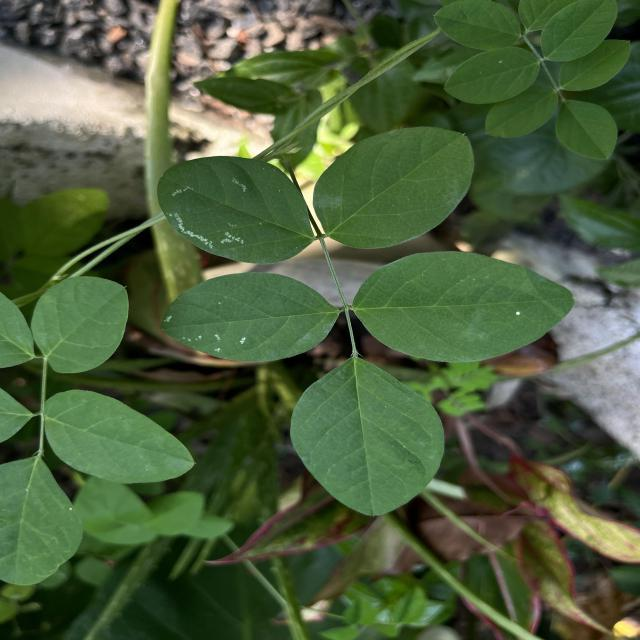Clitoria ternatea: (350, 249, 576, 364), (288, 356, 446, 518), (313, 124, 477, 251), (156, 154, 315, 266), (158, 270, 338, 364)
